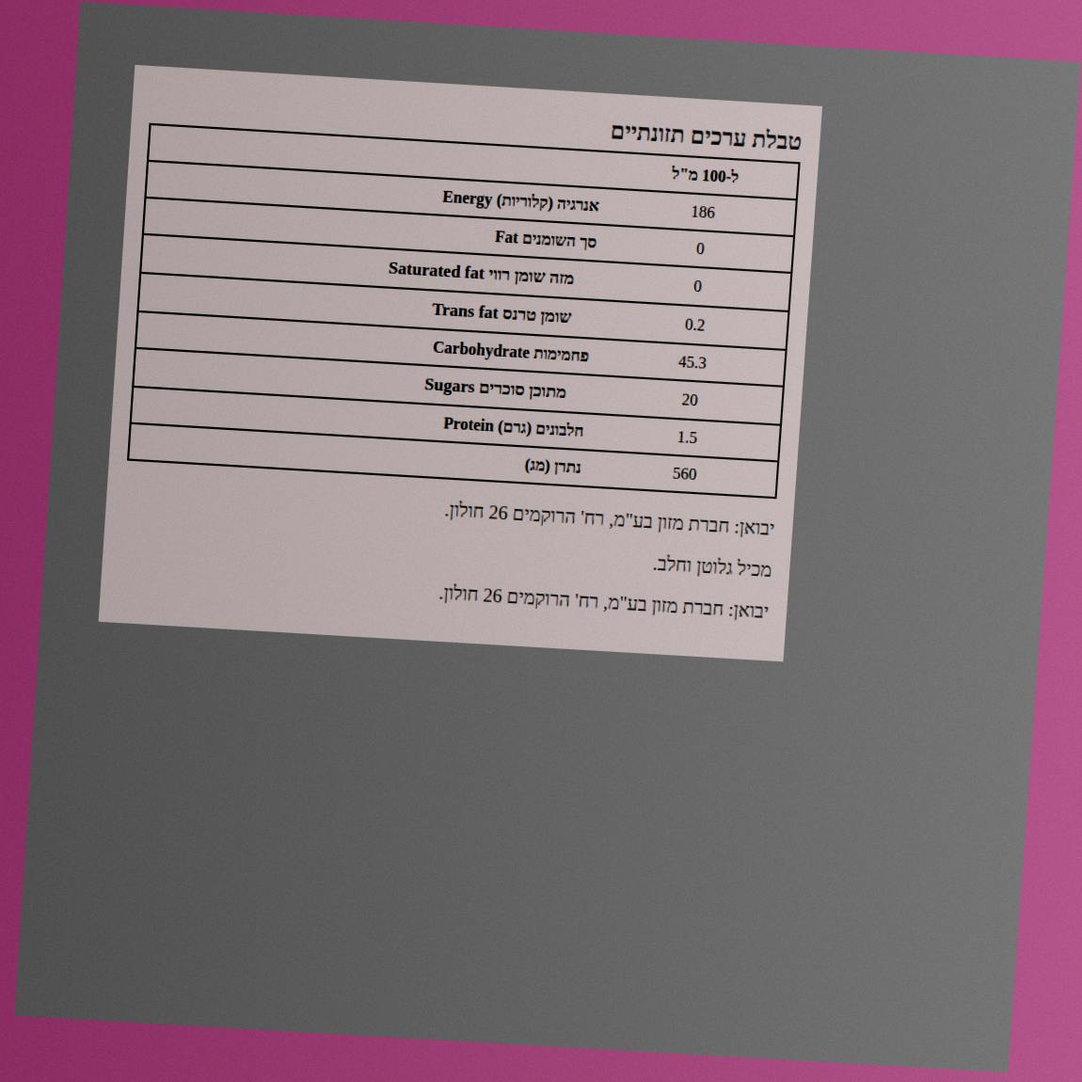carbs: (676, 351, 709, 374)
energy: (688, 200, 718, 224)
fat: (694, 238, 707, 260)
protein: (674, 426, 700, 449)
